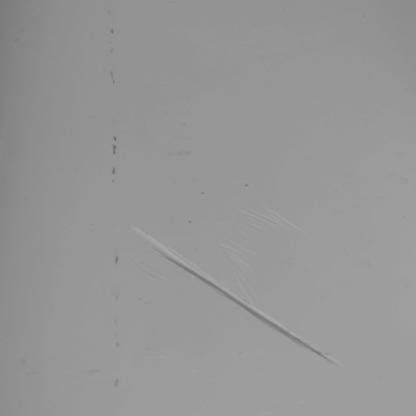sunshang: (131, 233, 337, 365)
